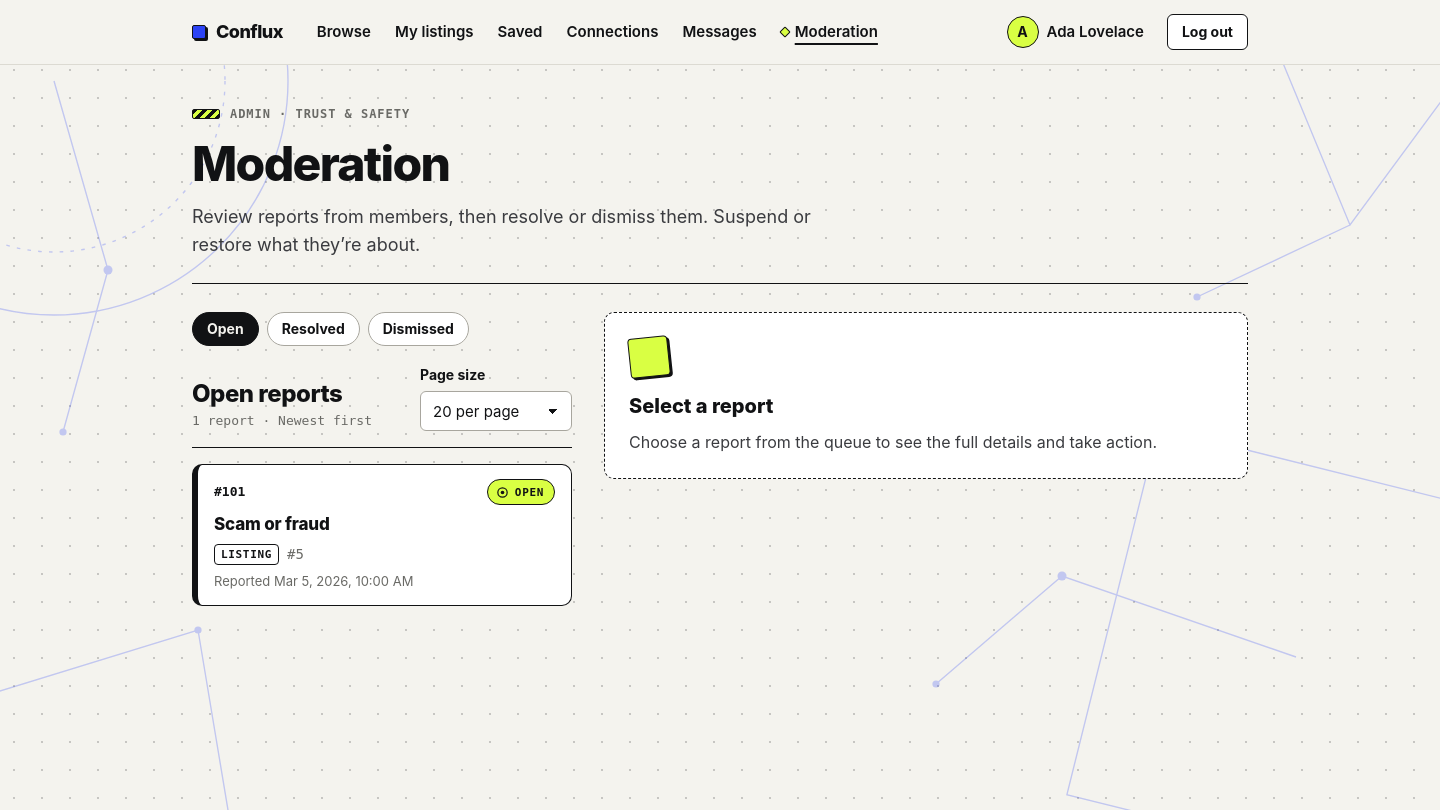
Test case: Report queue › marks open reports with text and an icon, not only colour
Expected: the element with class "status-badge" reads "Open", x1=515 y1=486 x2=544 y2=499
Expected: the icon is shown, x1=496 y1=486 x2=509 y2=499
Click the link "Resolved".
click(313, 329)  # box x1=267 y1=312 x2=360 y2=346
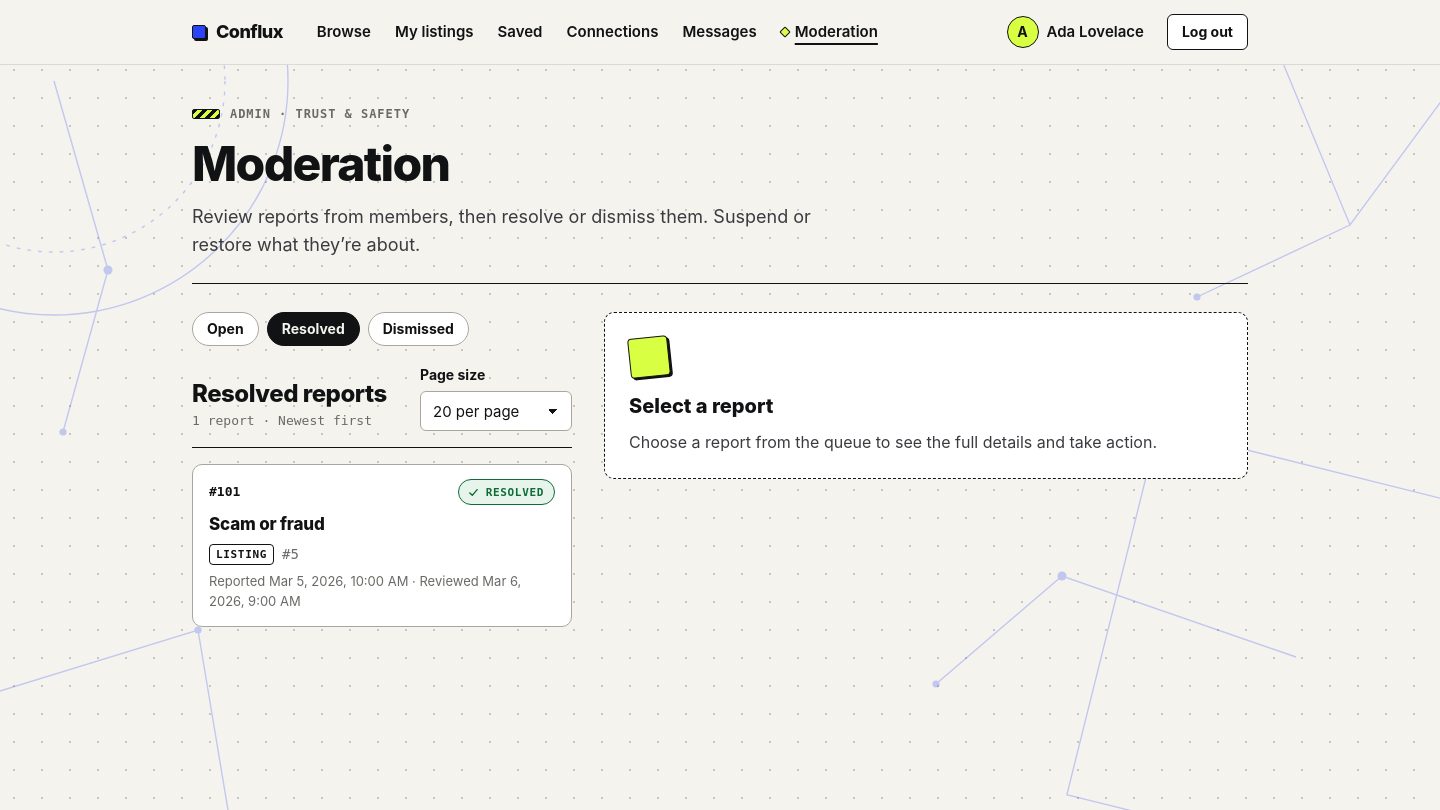
Now the link with aria-label "Report #101, Scam or fraud, Listing #5, Resolved" shows "Reviewed", box x1=192 y1=464 x2=572 y2=627
Now the element with class "status-badge" reads "Resolved", box x1=486 y1=486 x2=544 y2=499
